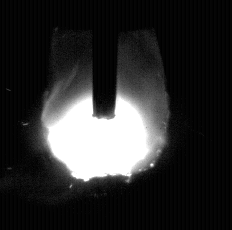arame: (93, 0, 117, 119)
poca: (40, 0, 168, 230)
